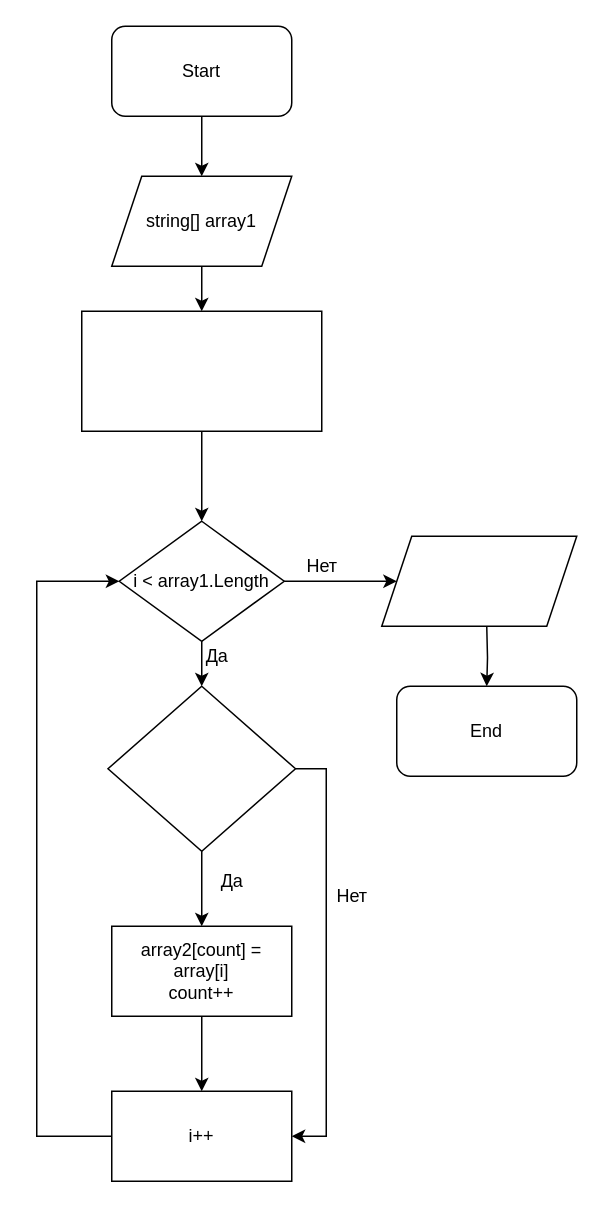
The diagram is 603 pixels wide and 1208 high, and some of its shapes have lost their labels. The box of each missing label's shape, as (x1, y1, x2, y2) in pixels:
array1[i].Length <= 3: (106, 685, 296, 851)
array2: (380, 535, 577, 626)
array2 = new string[array1.Length] i = 0 count = 0: (80, 310, 322, 431)
